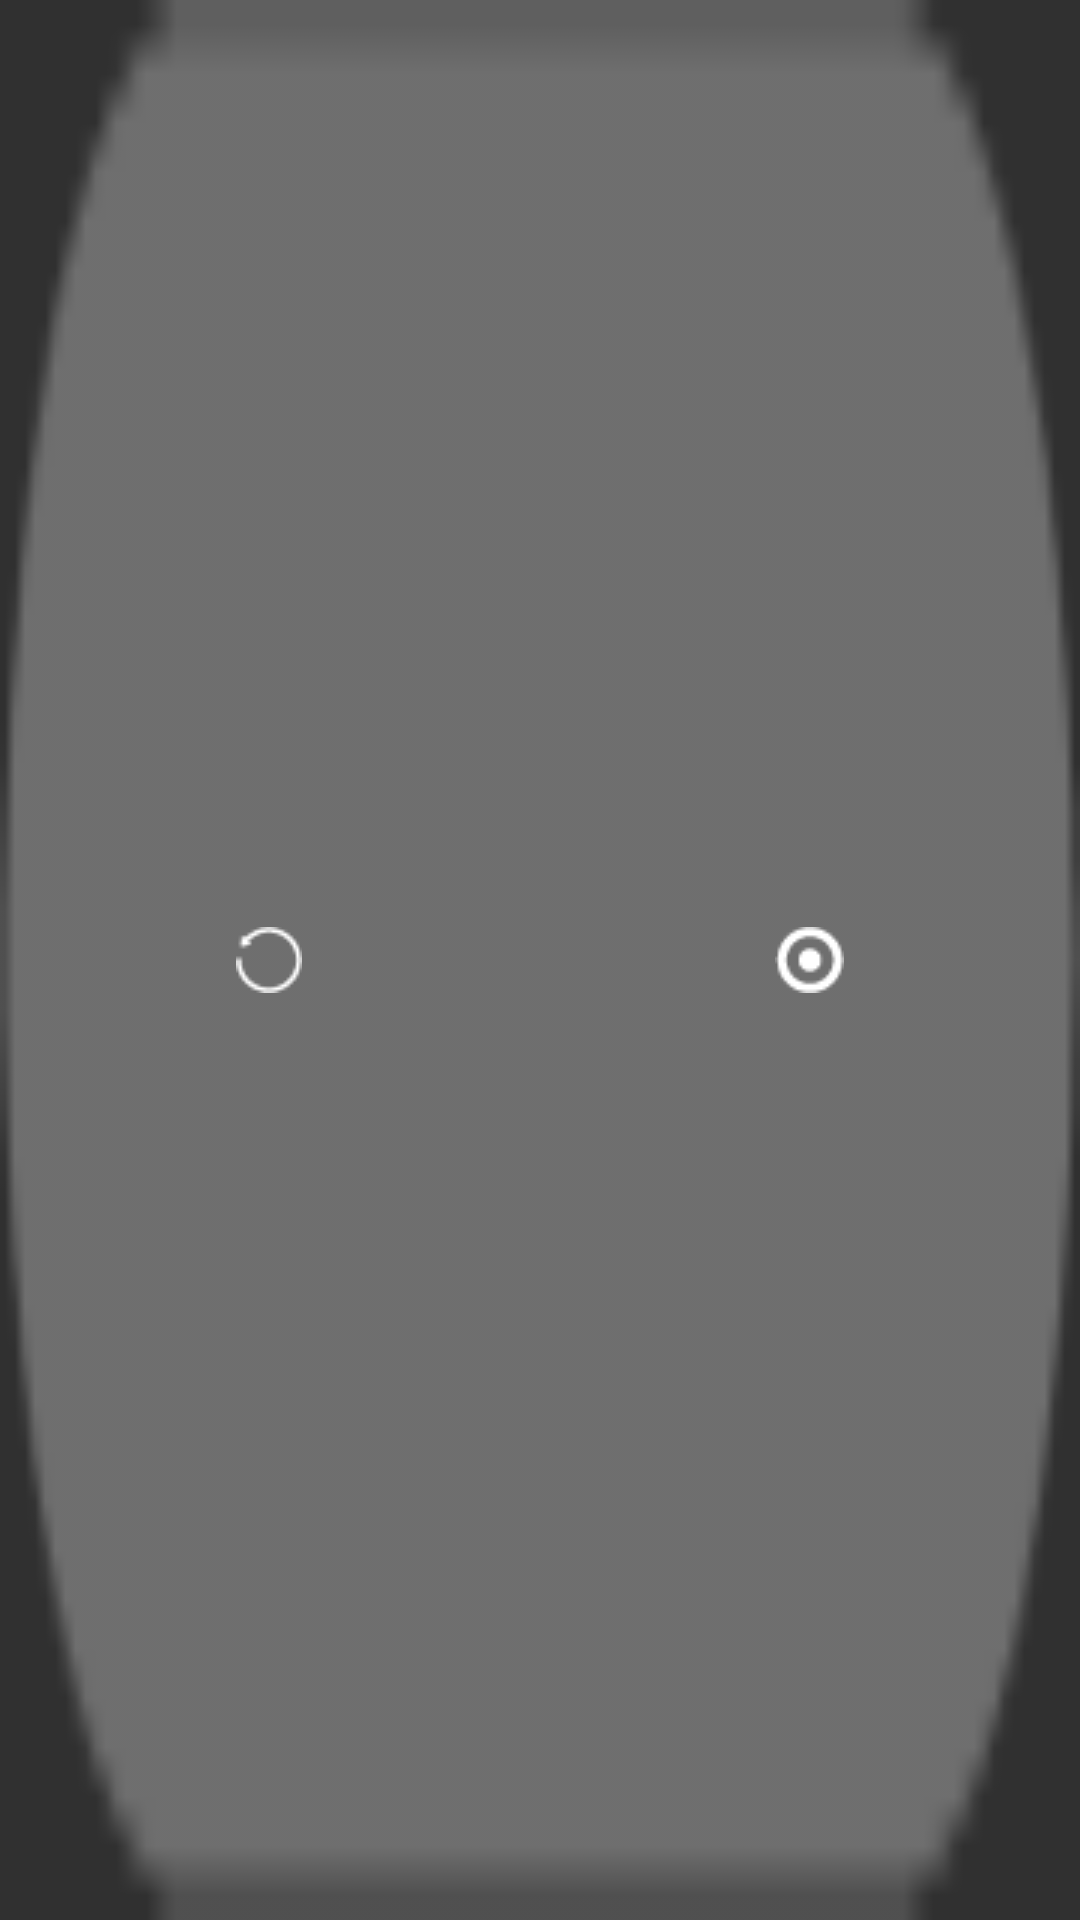

Where icons sit on this 1080×1920 app screen, as (x1, y1, x2, y2):
refresh: (236, 927, 302, 993)
